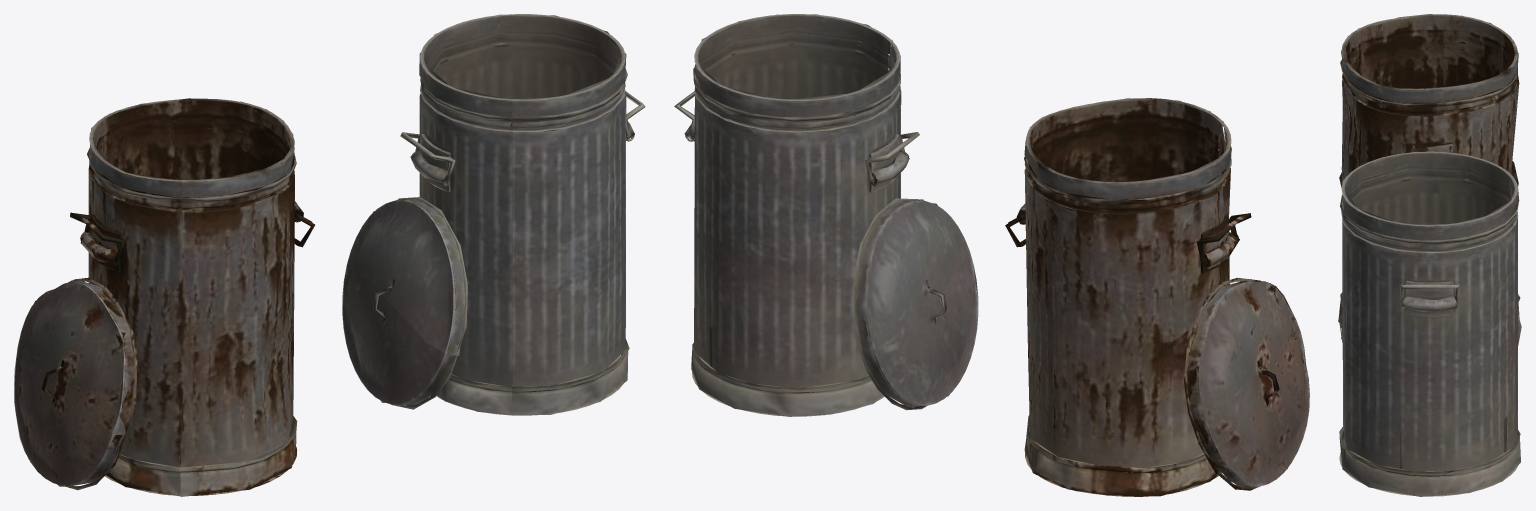
File: ph_metal_trash_can.glb
3 views of the same model, side by side, from view 1: azimuth 30°, elevation 25°; view 2: azimuth 150°, elevation 25°; view 3: azimuth 270°, elevation 25° (orthographic). The views are drawn at different scales.
Parts seen in each view (by area): view 1: metal_trash_can_handle_left; view 2: metal_trash_can_handle_left; view 3: metal_trash_can_handle_left.
Boxes of the visible parts, bbox=[...] form: metal_trash_can_handle_left: bbox=[14, 14, 645, 496]; metal_trash_can_handle_left: bbox=[674, 14, 1309, 496]; metal_trash_can_handle_left: bbox=[1338, 14, 1521, 496].
Size of the model in its own units: 1.78 by 0.9063 by 0.5592.
Materials: 3 (3 with a texture image).
